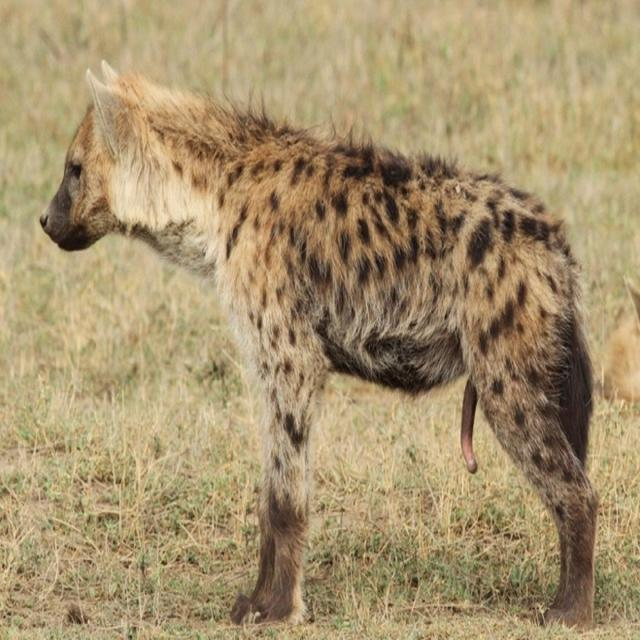Hyena: (36, 72, 599, 640)
